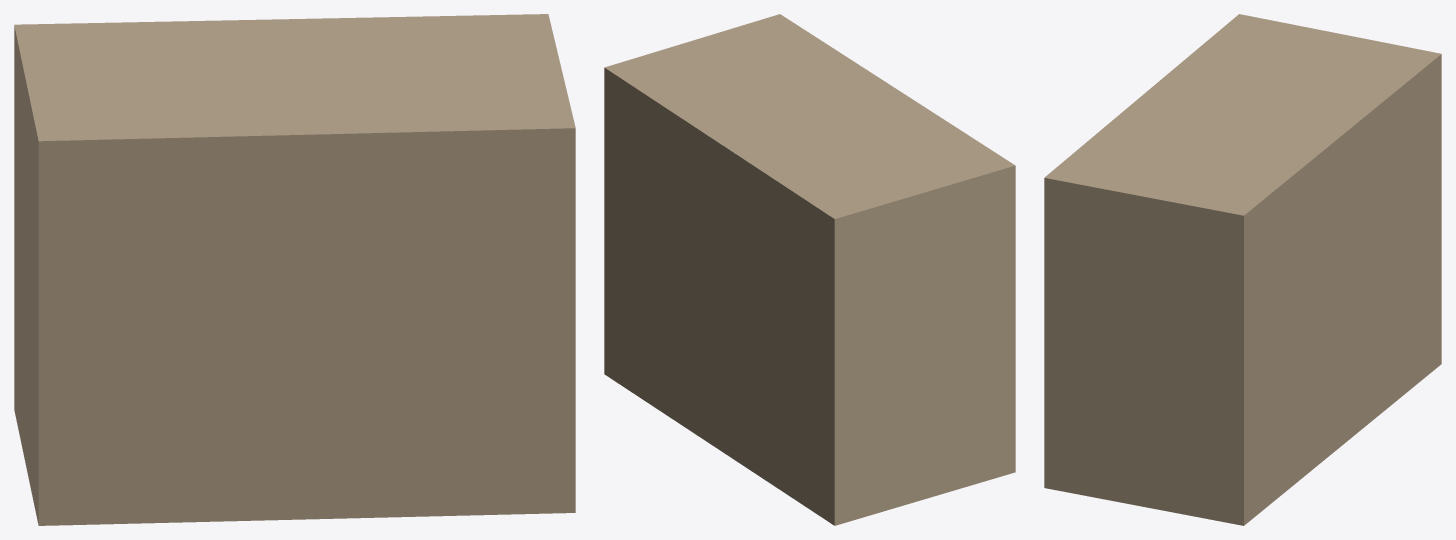
The model's file is bld_99616022.dae.
The picture shows the model from 3 angles, left to right: view 1: azimuth 30°, elevation 25°; view 2: azimuth 150°, elevation 25°; view 3: azimuth 270°, elevation 25°; orthographic projection. The views are drawn at different scales.
Visible parts, largest first — view 1: bld_99616022; view 2: bld_99616022; view 3: bld_99616022.
Boxes of the visible parts, <box> form: bld_99616022: <box>14,14,575,525</box>; bld_99616022: <box>604,14,1015,525</box>; bld_99616022: <box>1044,14,1441,525</box>.
Size of the model in its own units: 11.16 by 9.29 by 8.
